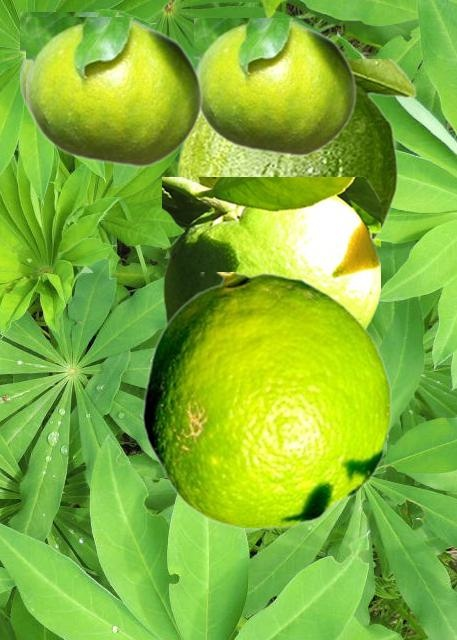dalandan: (142, 272, 391, 529), (176, 59, 416, 237), (162, 177, 379, 329), (26, 17, 202, 167), (194, 18, 356, 156), (20, 12, 152, 116)
